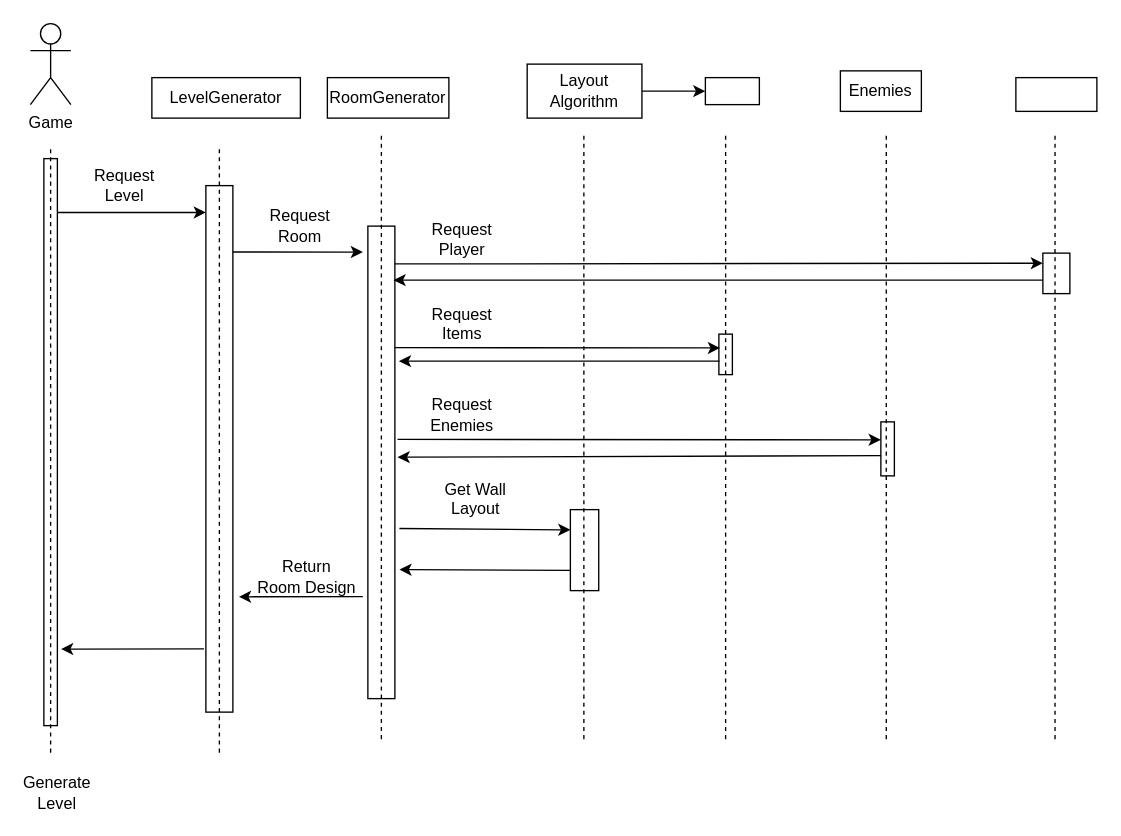
Image size: 1121x836. Some labels were removed from this diagram. The shapes that lost their labels are listed below. From the top down, each one's centre as x and y in pixels, then its label:
(x=731, y=90): Items
(x=1056, y=93): Player
